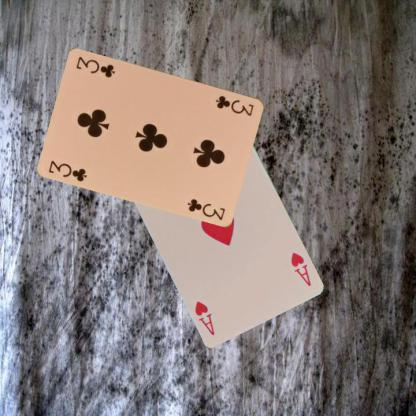3c: (214, 92, 256, 118), (46, 158, 89, 182)
Ah: (288, 250, 312, 288)
